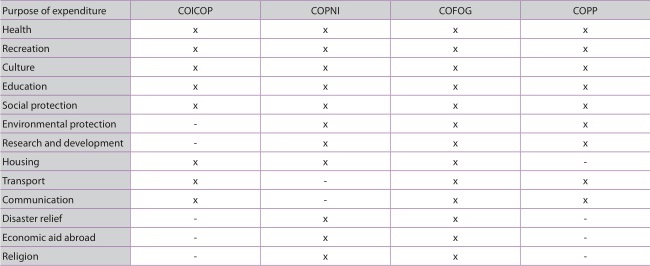column: (2, 1, 123, 266), (178, 1, 213, 266), (439, 1, 473, 266), (310, 1, 340, 266), (573, 2, 597, 266)
row: (1, 4, 650, 16), (1, 251, 650, 263), (1, 24, 650, 35), (1, 62, 650, 73), (1, 81, 650, 92), (1, 138, 650, 148), (1, 157, 650, 167), (1, 176, 650, 186), (1, 100, 649, 110), (1, 195, 649, 205), (1, 44, 650, 53), (1, 214, 650, 223), (1, 233, 650, 242), (1, 120, 650, 128)
